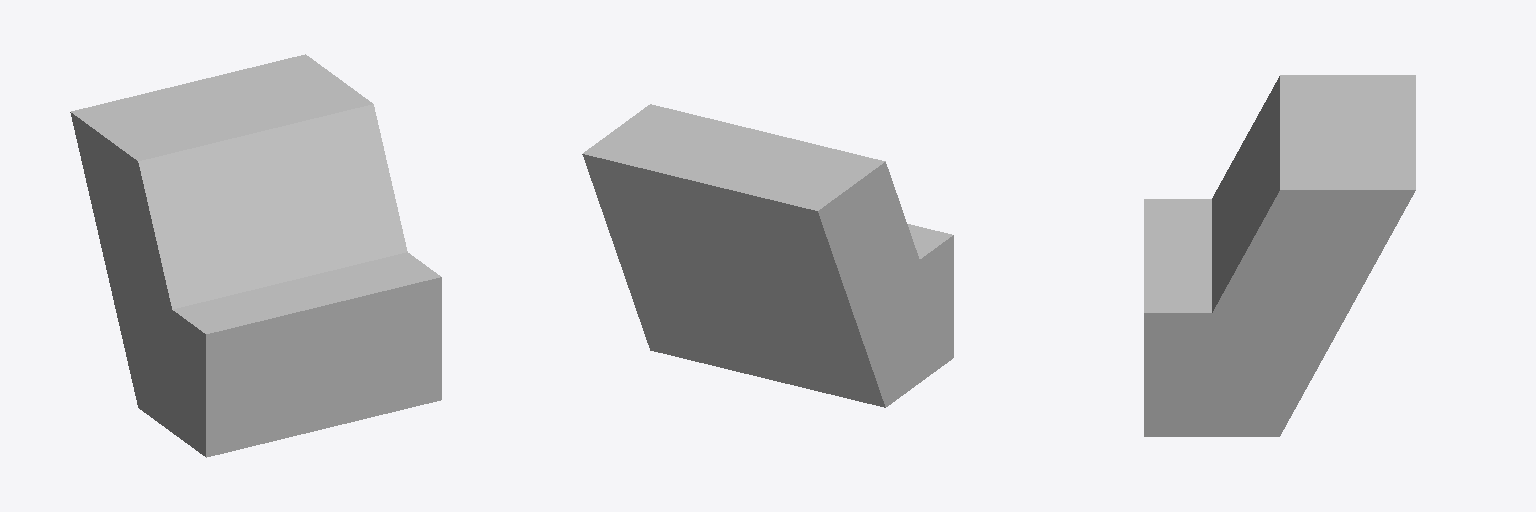
Rendered from sku20c.obj.
3 views of the same model, side by side, from view 1: azimuth 30°, elevation 25°; view 2: azimuth 150°, elevation 25°; view 3: azimuth 270°, elevation 25° (orthographic).
Size of the model in its own units: 1 by 1 by 1.